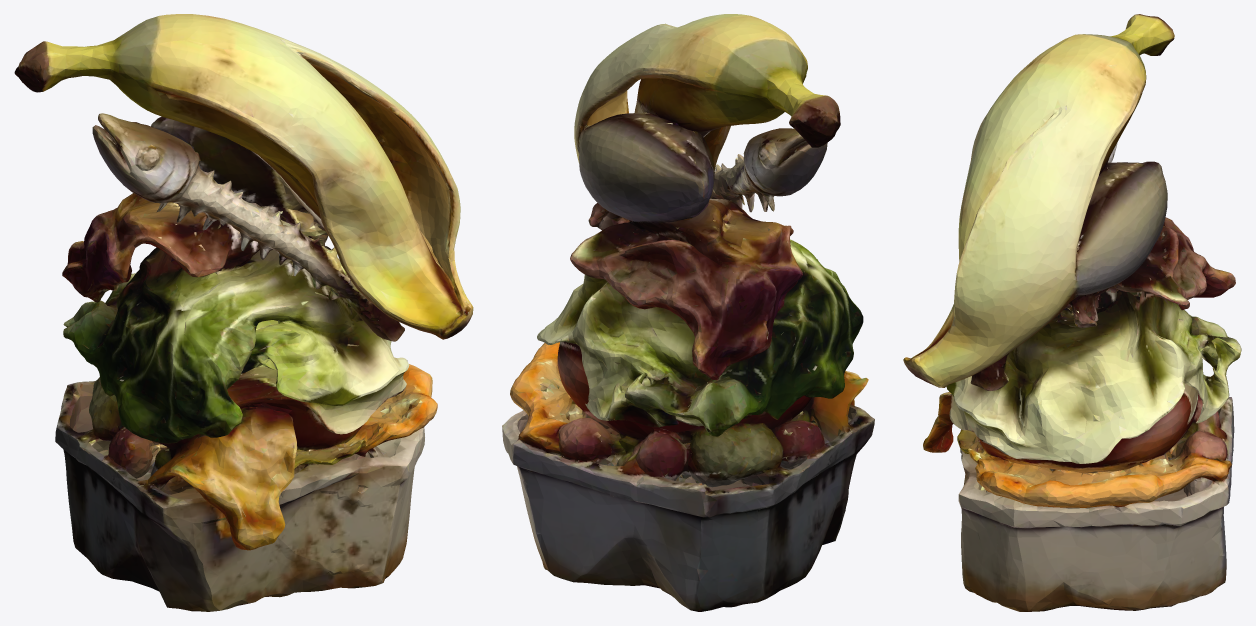
The model's file is SisaMakanan.glb.
The picture shows the model from 3 angles, left to right: view 1: azimuth 30°, elevation 25°; view 2: azimuth 150°, elevation 25°; view 3: azimuth 270°, elevation 25°; orthographic projection. The views are drawn at different scales.
Visible parts, largest first — view 1: world; view 2: world; view 3: world.
Boxes of the visible parts, x1,y1,x2,y2 form: world: (14, 14, 473, 611); world: (502, 14, 874, 611); world: (903, 14, 1241, 611).
Size of the model in its own units: 1.36 by 1.99 by 1.24.
1 material, 1 textured.
